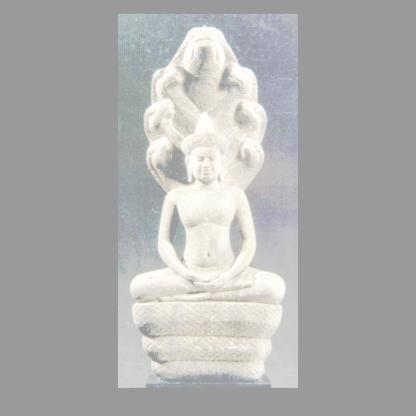buddha-sitting: (130, 26, 278, 380)
